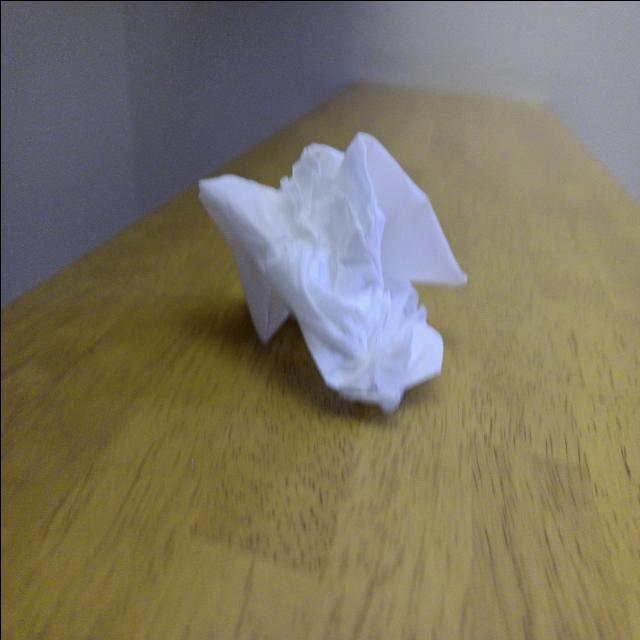Paper: (202, 120, 444, 399)
